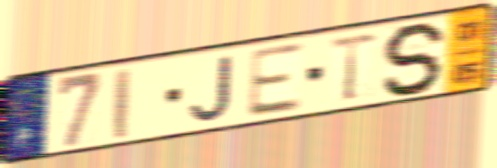7: (56, 71, 104, 151)
E: (244, 40, 304, 121)
I: (113, 64, 133, 142)
J: (188, 52, 235, 124)
S: (381, 20, 451, 97)
T: (327, 29, 381, 105)
